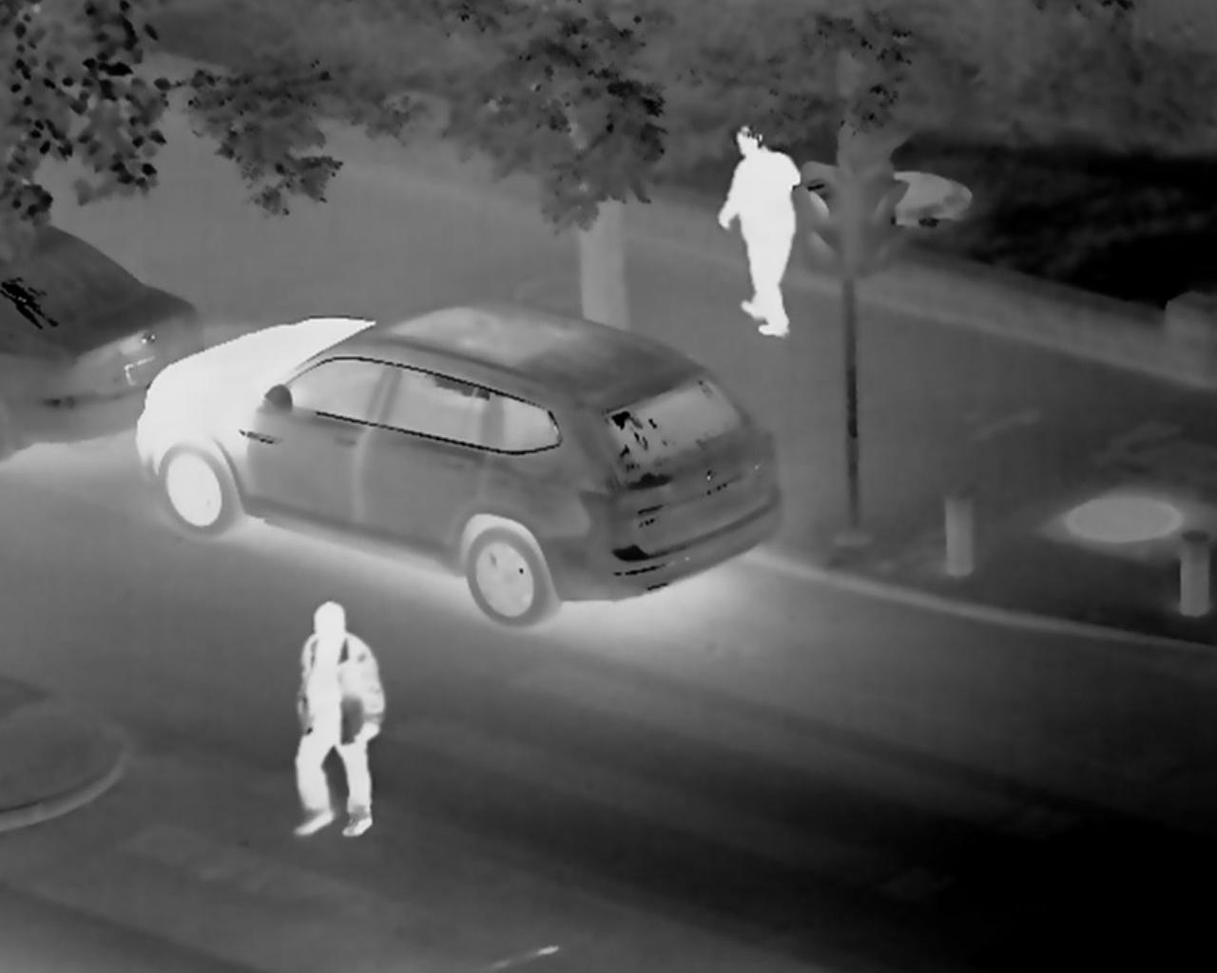person: (293, 600, 383, 839), (711, 120, 798, 337)
